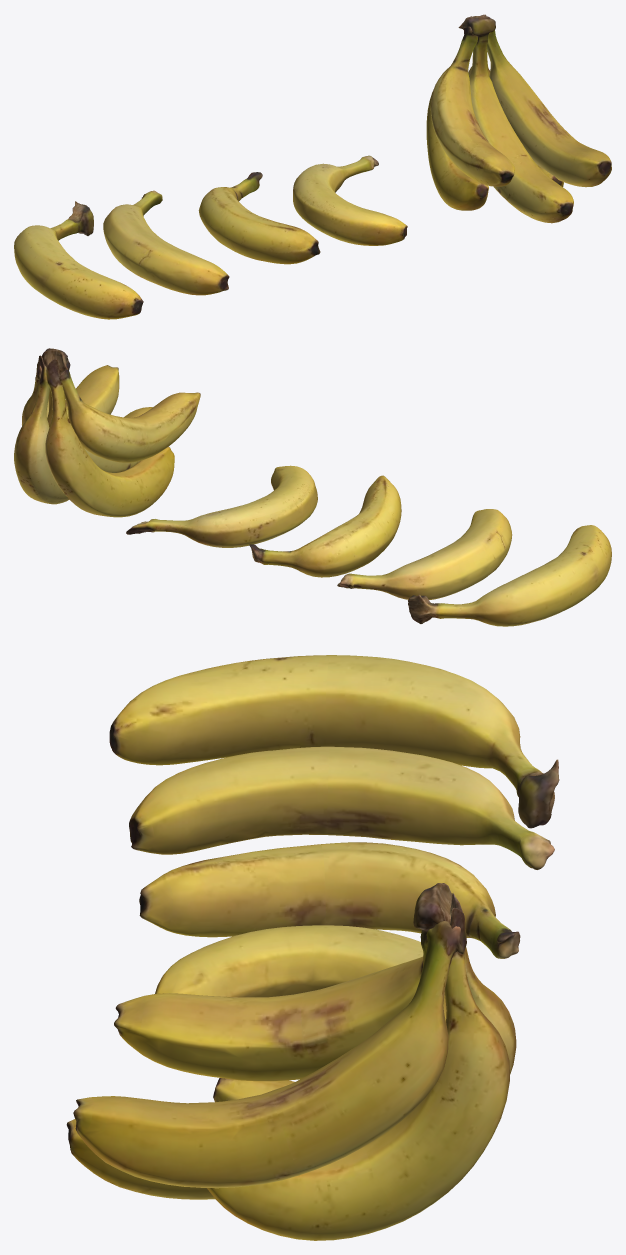
The model's file is bananas.glb.
3 renders of one model, top to bottom at view 1: azimuth 30°, elevation 25°; view 2: azimuth 150°, elevation 25°; view 3: azimuth 270°, elevation 25°, orthographic. The views are drawn at different scales.
Parts seen in each view (by area): view 1: bananas_bunch; view 2: bananas_bunch; view 3: bananas_bunch.
Part boxes in pixels (left/top/right/bottom): bananas_bunch: left=14, top=14, right=611, bottom=319; bananas_bunch: left=14, top=348, right=611, bottom=626; bananas_bunch: left=66, top=655, right=559, bottom=1240.
Size of the model in its own units: 0.6 by 0.1787 by 0.2441.
Materials: 1 (1 with a texture image).
